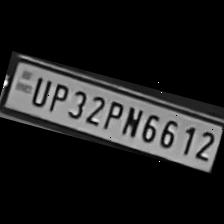1: (174, 119, 198, 157)
2: (190, 124, 218, 162), (81, 89, 108, 128)
3: (63, 83, 90, 120)
6: (154, 113, 181, 152), (136, 107, 163, 144)
N: (118, 101, 146, 140)
P: (99, 94, 126, 134), (43, 78, 72, 114)
U: (26, 72, 53, 108)
